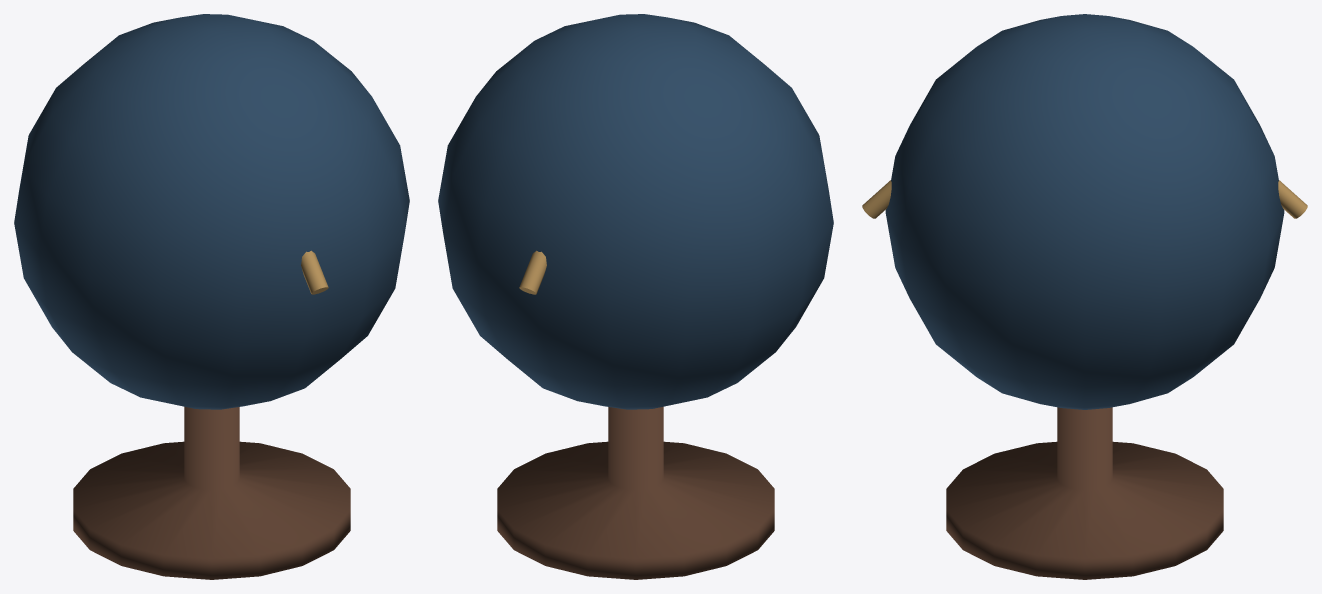
File: i_figure_3.glb
3 renders of one model, left to right at view 1: azimuth 30°, elevation 25°; view 2: azimuth 150°, elevation 25°; view 3: azimuth 270°, elevation 25°, orthographic.
Parts seen in each view (by area): view 1: o.001, o, o.002; view 2: o.001, o, o.002; view 3: o.001, o, o.002.
Part boxes in pixels (x1,y1,x2,y2): o.001: (14, 14, 409, 409); o: (73, 406, 350, 579); o.002: (301, 250, 328, 294); o.001: (438, 14, 833, 409); o: (497, 406, 774, 579); o.002: (519, 250, 546, 294); o.001: (885, 14, 1284, 409); o: (946, 407, 1223, 579); o.002: (862, 180, 1307, 218).
Bounding box in the file's own units: 0.17 × 0.23 × 0.1896.
